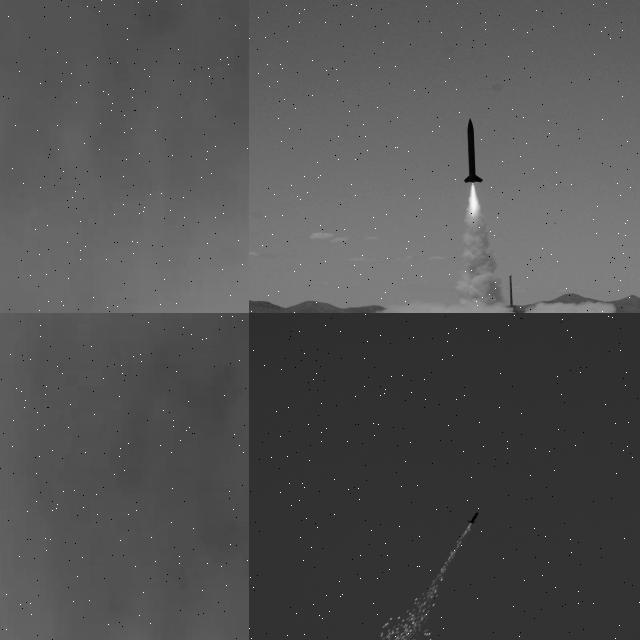Rocket: (464, 118, 484, 183), (467, 512, 479, 524)
